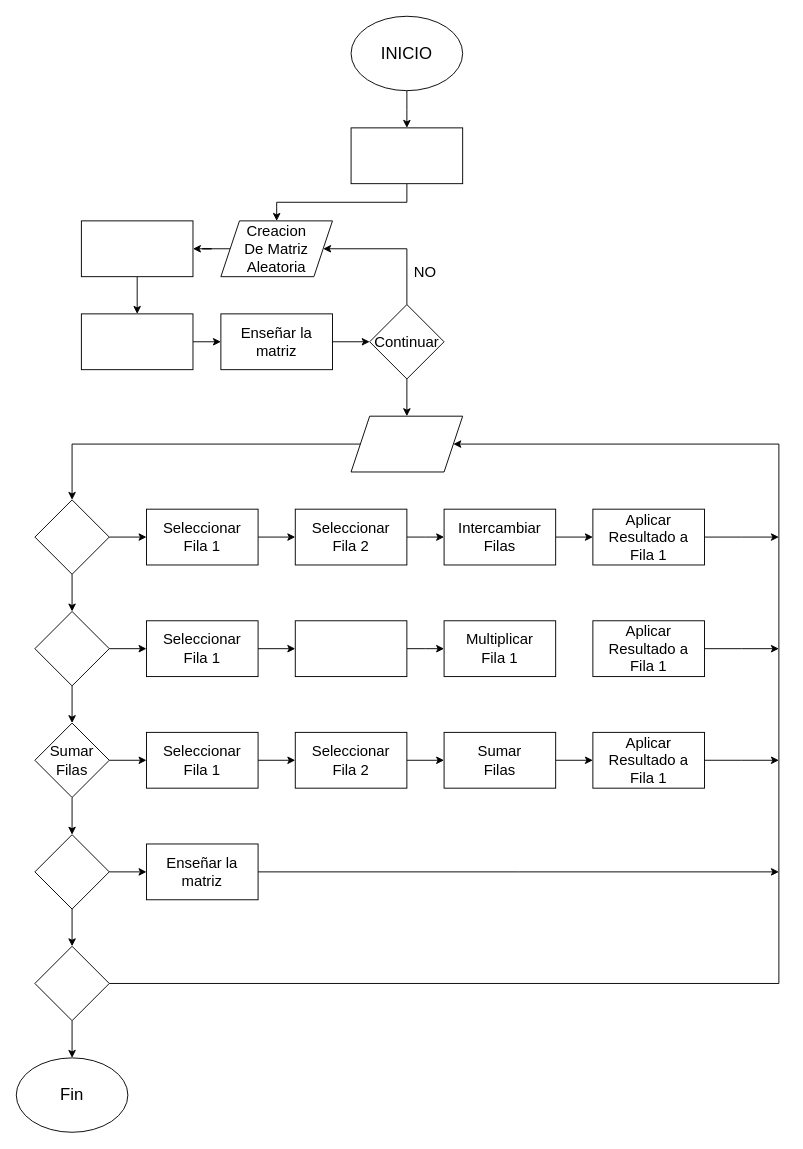
The diagram is 803 pixels wide and 1149 high, and some of its shapes have lost their labels. The shapes that lost their labels are listed below. From the top down, each one's centre as x and y in pixels, then its label:
At (x=406, y=155): "Inicializamos el codigo".
At (x=136, y=248): "Seleccionar un numero de filas".
At (x=136, y=341): "Seleccionar un numero de columnas".
At (x=406, y=443): "Seleccionar Operaciones".
At (x=71, y=536): "Cambio de Fila".
At (x=71, y=648): "Multiplicacion por Escalar".
At (x=350, y=648): "Seleccionar Escalar".
At (x=71, y=871): "Mostrar Matriz".
At (x=71, y=983): "Salir".
